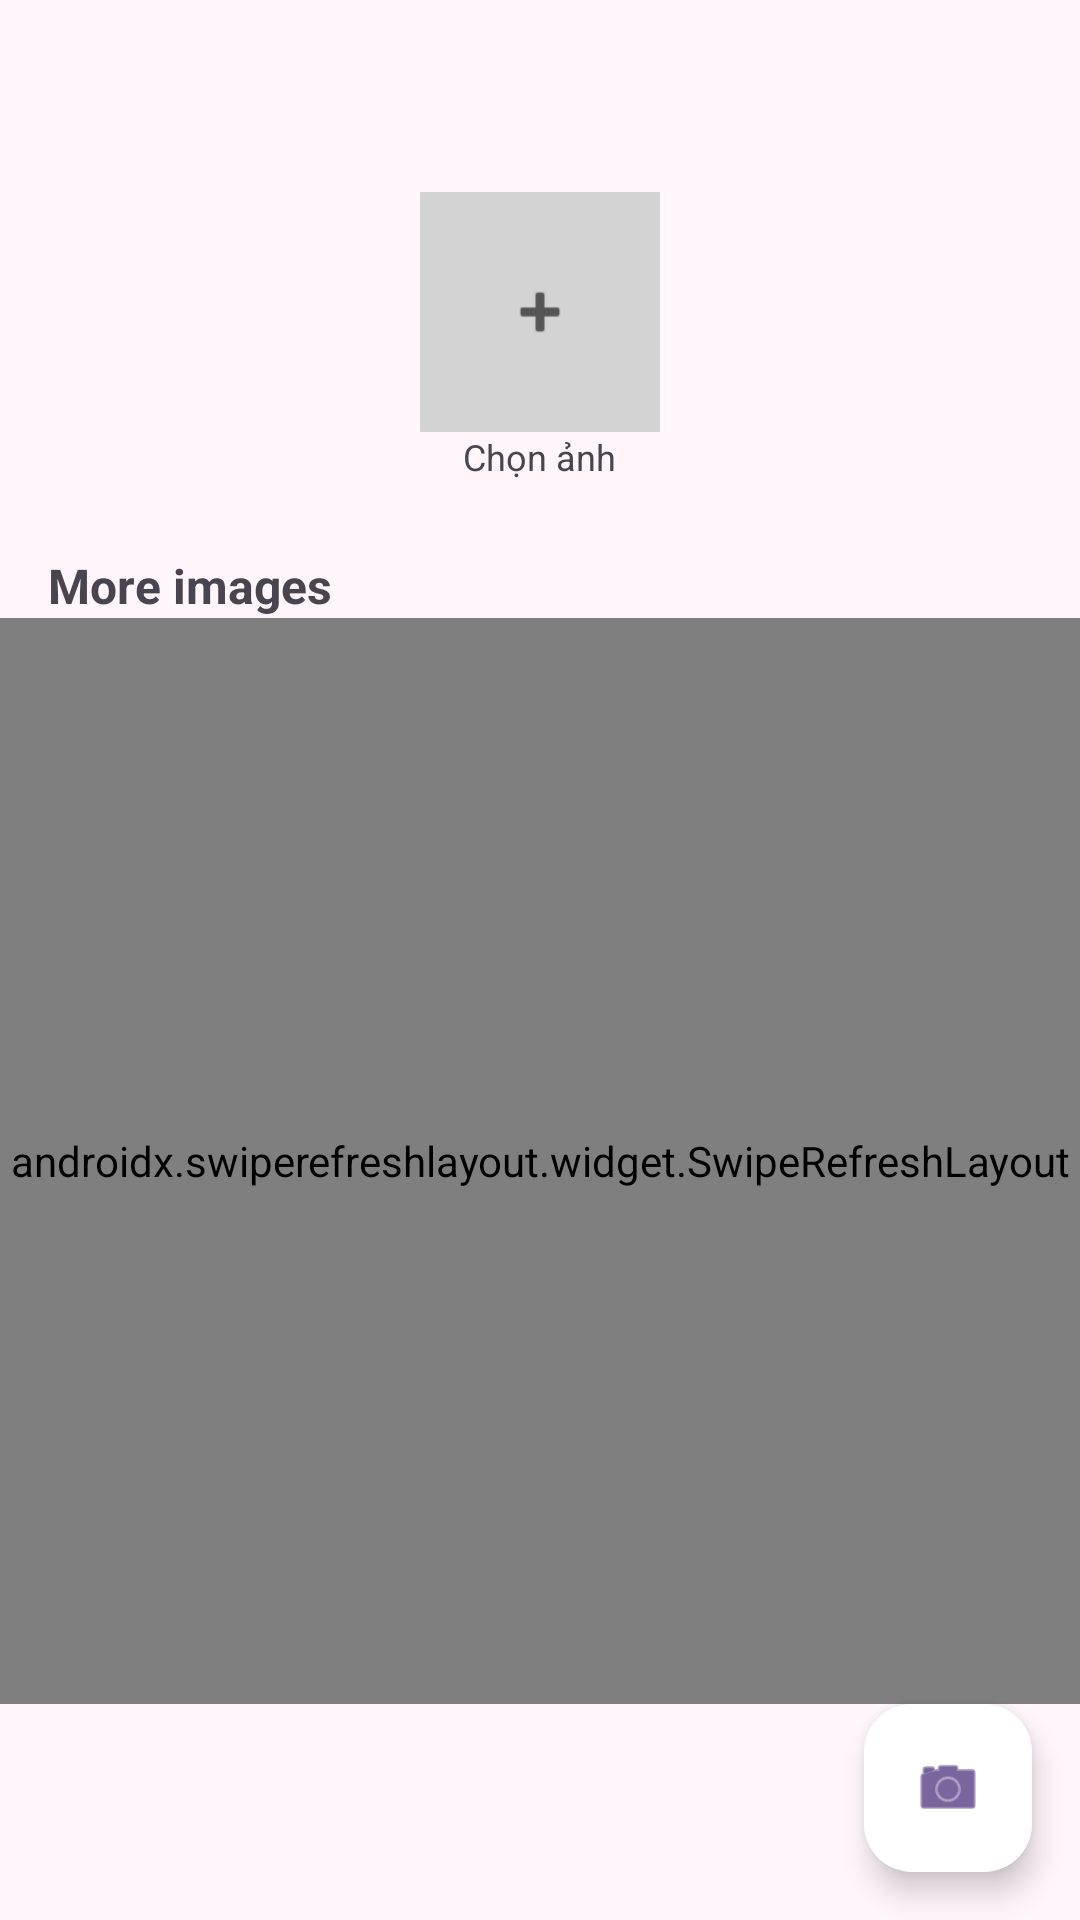

Icons on this 1080×1920 Android screen, each with the point to tap as point (x, y):
camera: point (948, 1788)
